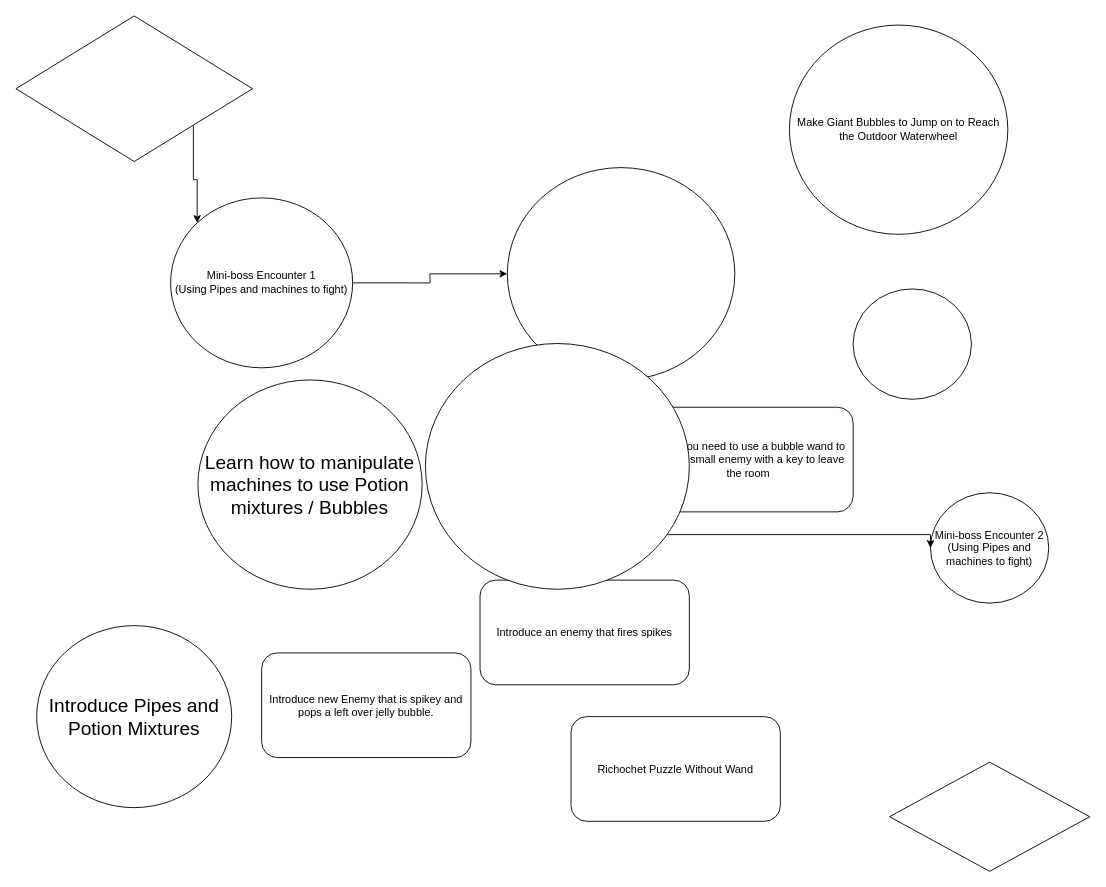
The diagram is 1106 pixels wide and 887 high, and some of its shapes have lost their labels. Each missing label, with the centre of its shape:
Defeat Boss(End): [989,816]
Entrance (Beginning): [134,88]
Get Bubble Wand: [620,273]
Go down waterslide: [911,343]
Make the Waterwheel Stick so you can climb down it: [557,466]
